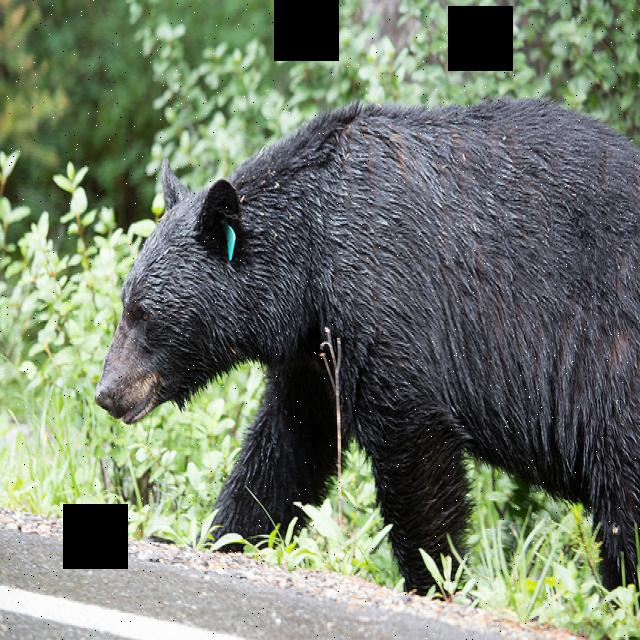Bear: (110, 91, 640, 594)
